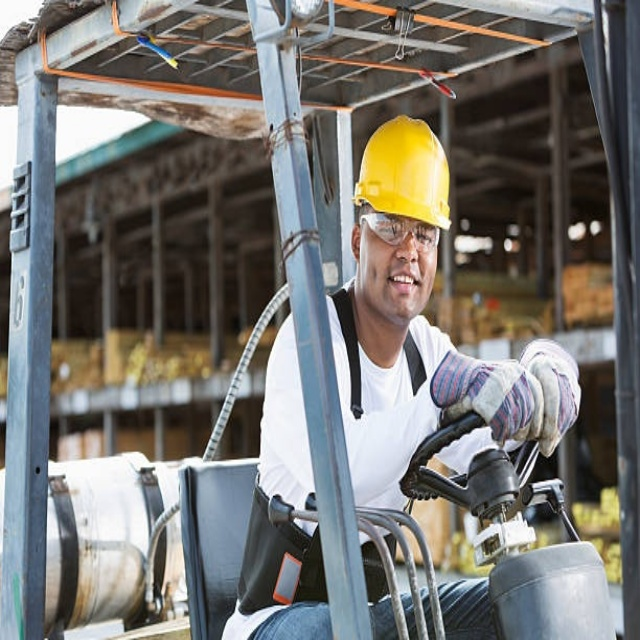Gafas: (363, 212, 443, 252)
Guantes: (517, 331, 585, 455), (444, 358, 536, 440)
Sin_mascara: (383, 257, 424, 314)
